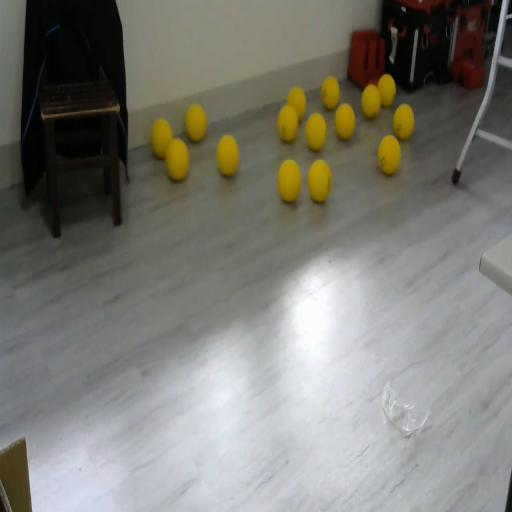FUEL: (307, 158, 332, 203), (165, 136, 190, 180), (216, 133, 240, 177), (277, 158, 301, 202), (377, 134, 401, 176), (184, 102, 208, 143), (150, 118, 172, 158), (305, 112, 327, 151), (334, 102, 356, 140), (361, 83, 382, 119), (394, 103, 414, 140), (287, 86, 306, 122), (320, 75, 340, 109), (378, 72, 396, 106)
